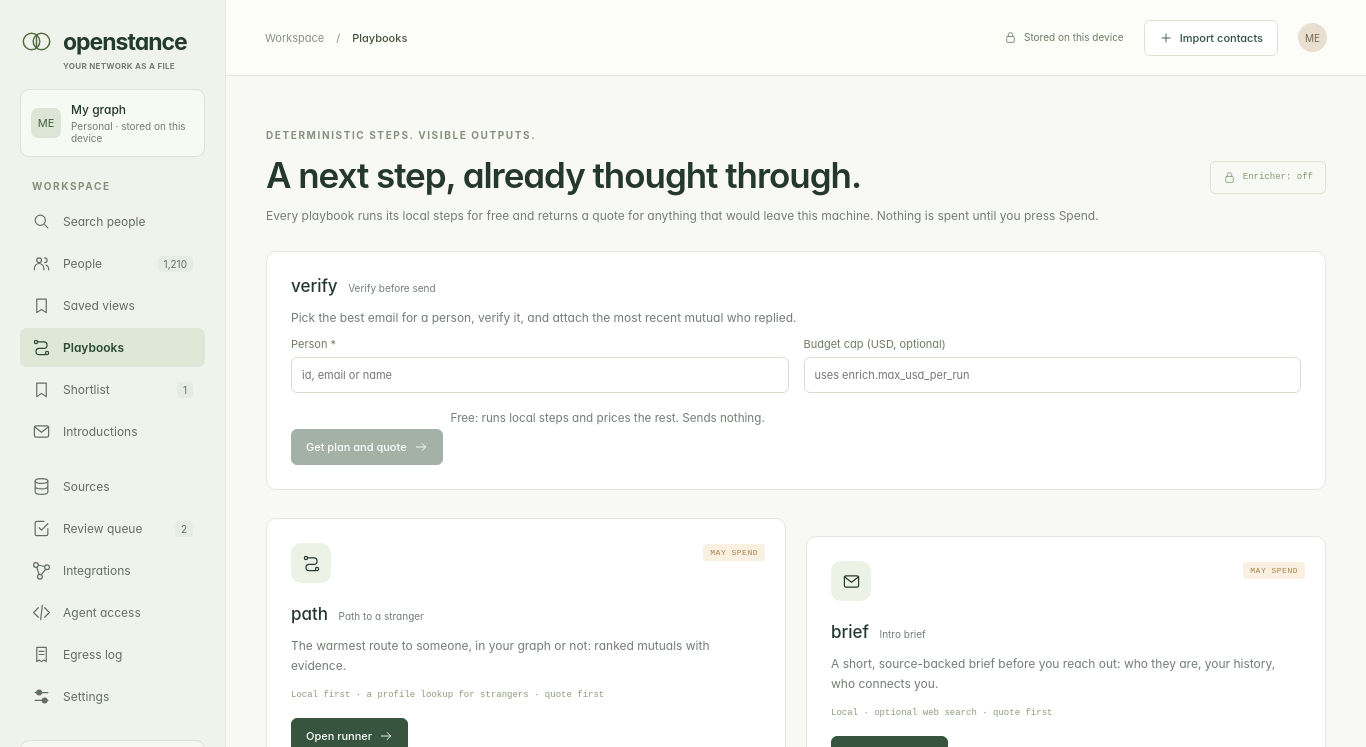
Test: playbook results, human-first (U4) › verify: the address, its status and the freshest mutual who replied
In the field labelled "Person *": (540, 375) [291,357,788,393], type "Priya Raman"
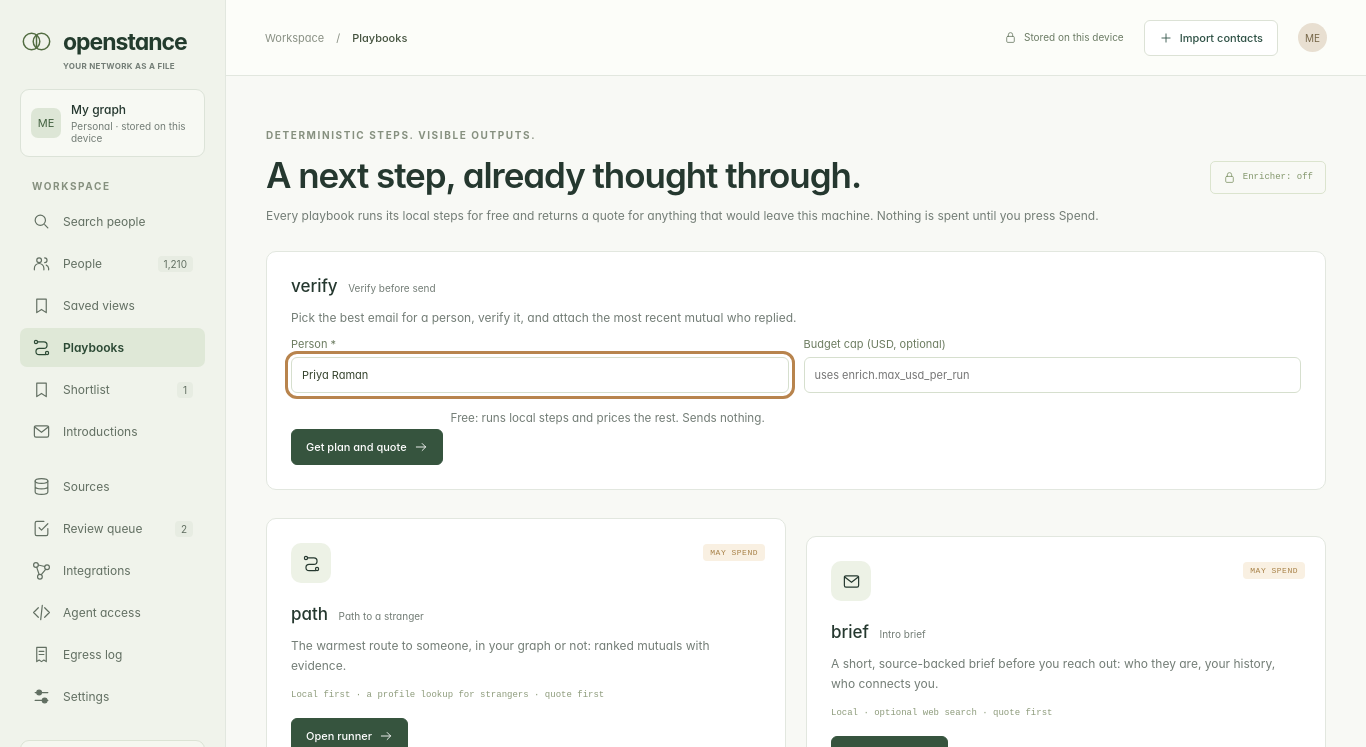
Click the button "Get plan and quote": (367, 447) [291,429,443,465]
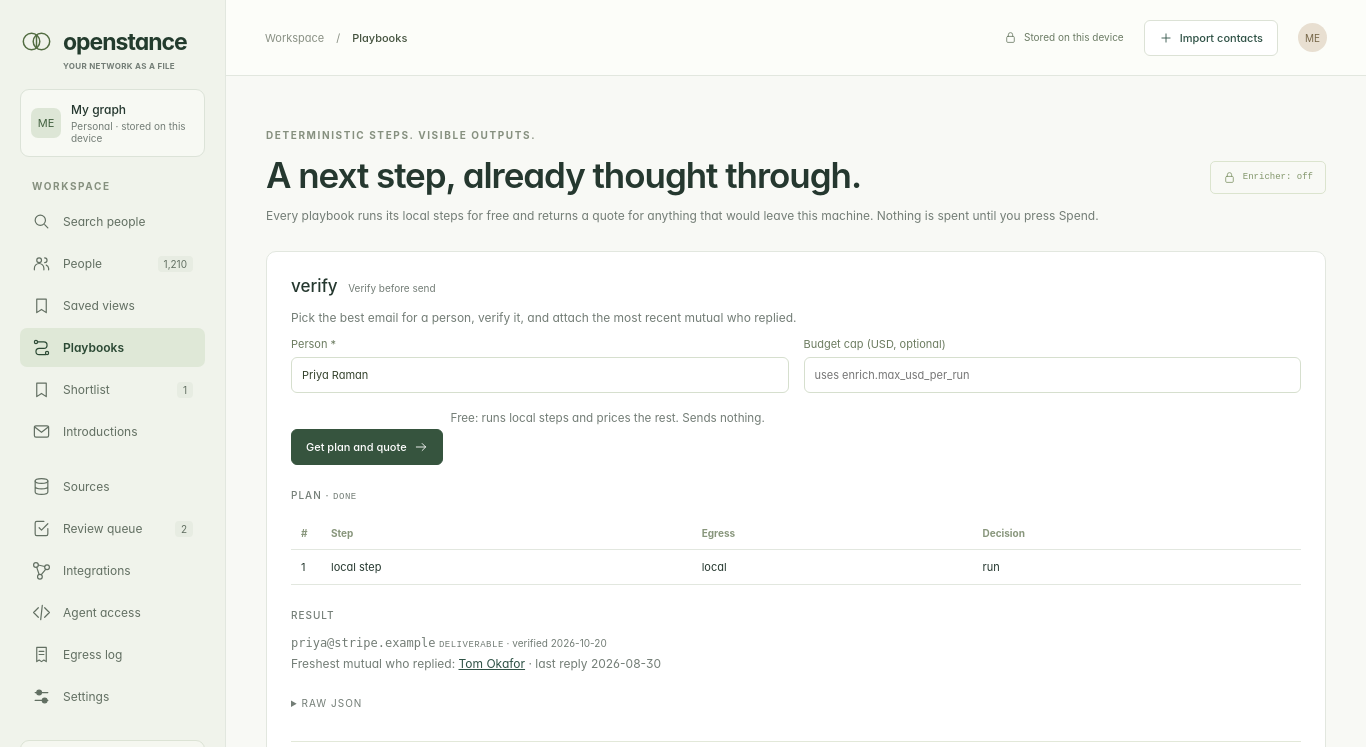
Result: the text "priya@stripe.example" is shown at [291,636,436,650]
Result: the text "deliverable" is shown at [439,640,504,650]
Result: the text "· verified 2026-10-20" is shown at [504,637,607,649]
